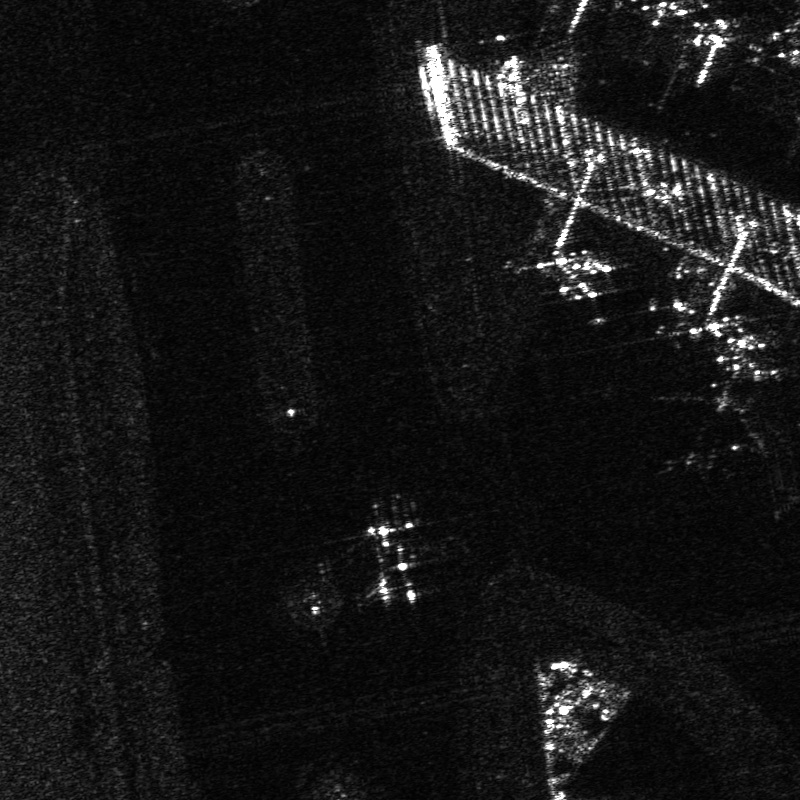Boeing787: (638, 374, 746, 476), (635, 1, 712, 35)
other: (345, 502, 442, 601)
